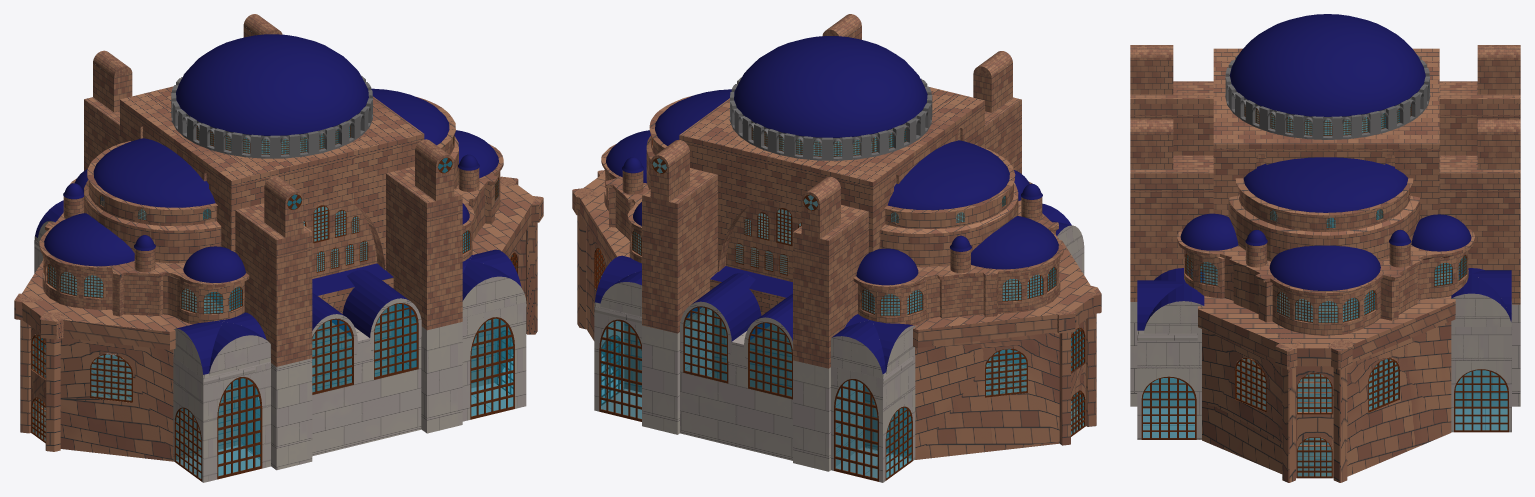
The model's file is hagia-sophia.glb.
3 renders of one model, left to right at view 1: azimuth 30°, elevation 25°; view 2: azimuth 150°, elevation 25°; view 3: azimuth 270°, elevation 25°, orthographic.
Parts seen in each view (by area): view 1: Plane.003_0, Cube_1, Cube.010_15, Sphere.013_36, Cube.007_8, Cube.004_5, Cube.003_4, Cube.008_9, Plane_16, Plane.002_17, Sphere.004_21, Cylinder.008_37 (+12 smaller); view 2: Plane.003_0, Cube_1, Cube.009_14, Sphere.013_36, Cube.002_3, Cube.001_2, Cube.005_6, Plane_16, Cube.006_7, Plane.002_17, Sphere.004_21, Cylinder.008_37 (+12 smaller); view 3: Plane.003_0, Sphere.013_36, Cube_1, Plane.004_26, Cube.008_9, Cube.002_3, Cube.004_5, Cube.006_7, Plane.005_27, Sphere.010_31, Cylinder.008_37, Cube.003_4 (+11 smaller).
Part boxes in pixels (left/top/right/bottom): Plane.003_0: left=14, top=176, right=543, bottom=461; Cube_1: left=120, top=86, right=424, bottom=308; Cube.010_15: left=312, top=270, right=421, bottom=456; Sphere.013_36: left=176, top=34, right=368, bottom=135; Cube.007_8: left=173, top=312, right=270, bottom=482; Cube.004_5: left=386, top=166, right=462, bottom=433; Cube.003_4: left=235, top=203, right=312, bottom=470; Cube.008_9: left=462, top=249, right=526, bottom=421; Plane_16: left=39, top=178, right=249, bottom=324; Plane.002_17: left=84, top=141, right=221, bottom=263; Sphere.004_21: left=93, top=138, right=215, bottom=207; Cylinder.008_37: left=171, top=74, right=372, bottom=158; Plane.003_0: left=572, top=170, right=1101, bottom=459; Cube_1: left=679, top=87, right=984, bottom=310; Cube.009_14: left=680, top=273, right=792, bottom=460; Sphere.013_36: left=734, top=36, right=927, bottom=137; Cube.002_3: left=642, top=168, right=717, bottom=434; Cube.001_2: left=793, top=205, right=868, bottom=471; Cube.005_6: left=831, top=314, right=915, bottom=482; Plane_16: left=853, top=182, right=1063, bottom=325; Cube.006_7: left=594, top=255, right=641, bottom=421; Plane.002_17: left=880, top=146, right=1018, bottom=266; Sphere.004_21: left=887, top=140, right=1009, bottom=210; Cylinder.008_37: left=729, top=77, right=932, bottom=160; Plane.003_0: left=1198, top=273, right=1455, bottom=482; Sphere.013_36: left=1229, top=14, right=1425, bottom=116; Cube_1: left=1213, top=48, right=1439, bottom=274; Plane.004_26: left=1177, top=229, right=1475, bottom=335; Cube.008_9: left=1137, top=268, right=1204, bottom=439; Cube.002_3: left=1439, top=155, right=1520, bottom=406; Cube.004_5: left=1130, top=155, right=1213, bottom=406; Cube.006_7: left=1451, top=268, right=1512, bottom=432; Plane.005_27: left=1228, top=178, right=1419, bottom=261; Sphere.010_31: left=1243, top=157, right=1408, bottom=212; Cylinder.008_37: left=1225, top=54, right=1430, bottom=139; Cube.003_4: left=1130, top=81, right=1213, bottom=155.
Size of the model in its own units: 21.66 by 13.58 by 14.38.
Materials: 6 (2 with a texture image).
